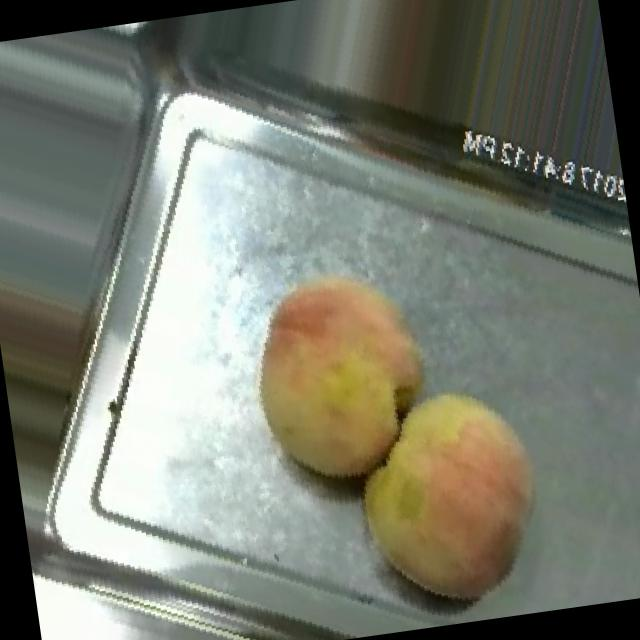Fruit: (202, 224, 473, 524), (308, 350, 584, 640)
